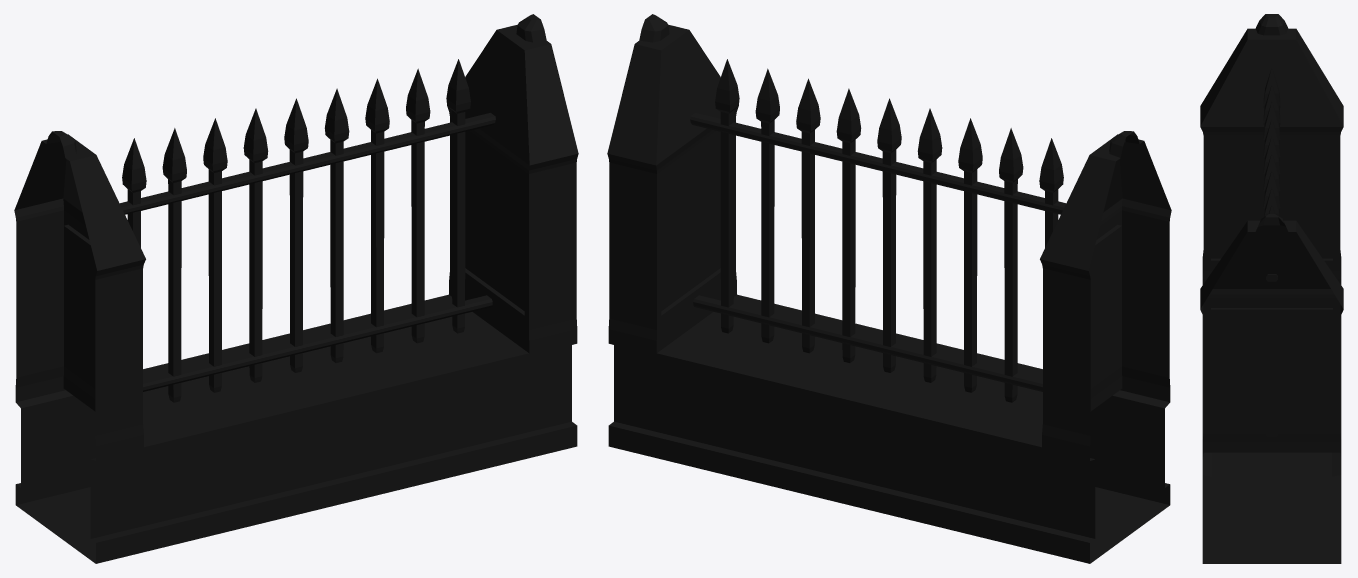
Rendered from graveyard_fence.glb.
3 renders of one model, left to right at view 1: azimuth 30°, elevation 25°; view 2: azimuth 150°, elevation 25°; view 3: azimuth 270°, elevation 25°, orthographic. The views are drawn at different scales.
Parts seen in each view (by area): view 1: GraveyardFence; view 2: GraveyardFence; view 3: GraveyardFence.
Boxes of the visible parts, left/top/right/bottom form: GraveyardFence: left=14, top=14, right=578, bottom=563; GraveyardFence: left=607, top=14, right=1171, bottom=563; GraveyardFence: left=1200, top=14, right=1343, bottom=563.
Bounding box in the file's own units: 1.73 × 1.38 × 0.5166.
Materials: 1 (1 with a texture image).
